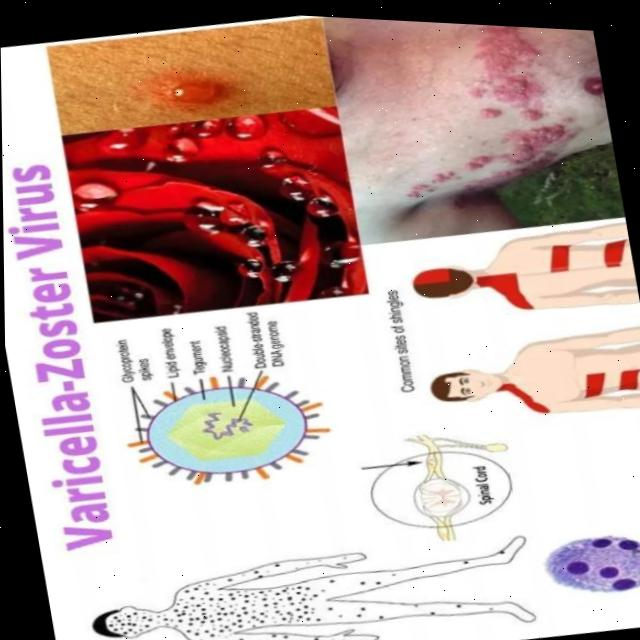Shingles: (373, 19, 586, 218)
